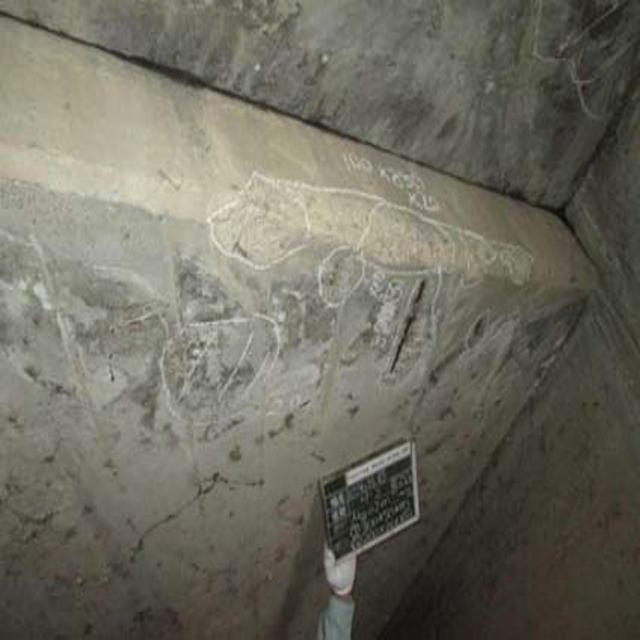spalling: (217, 181, 542, 293), (360, 308, 510, 388)
